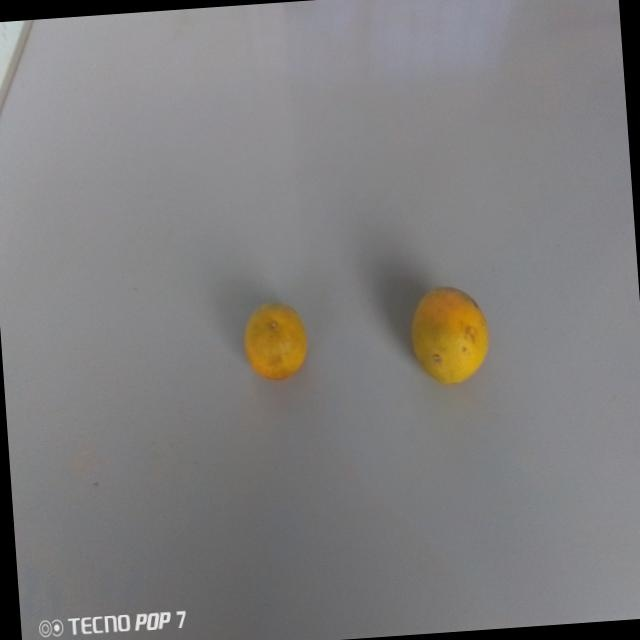agrume: (403, 279, 493, 392), (239, 297, 312, 391)
